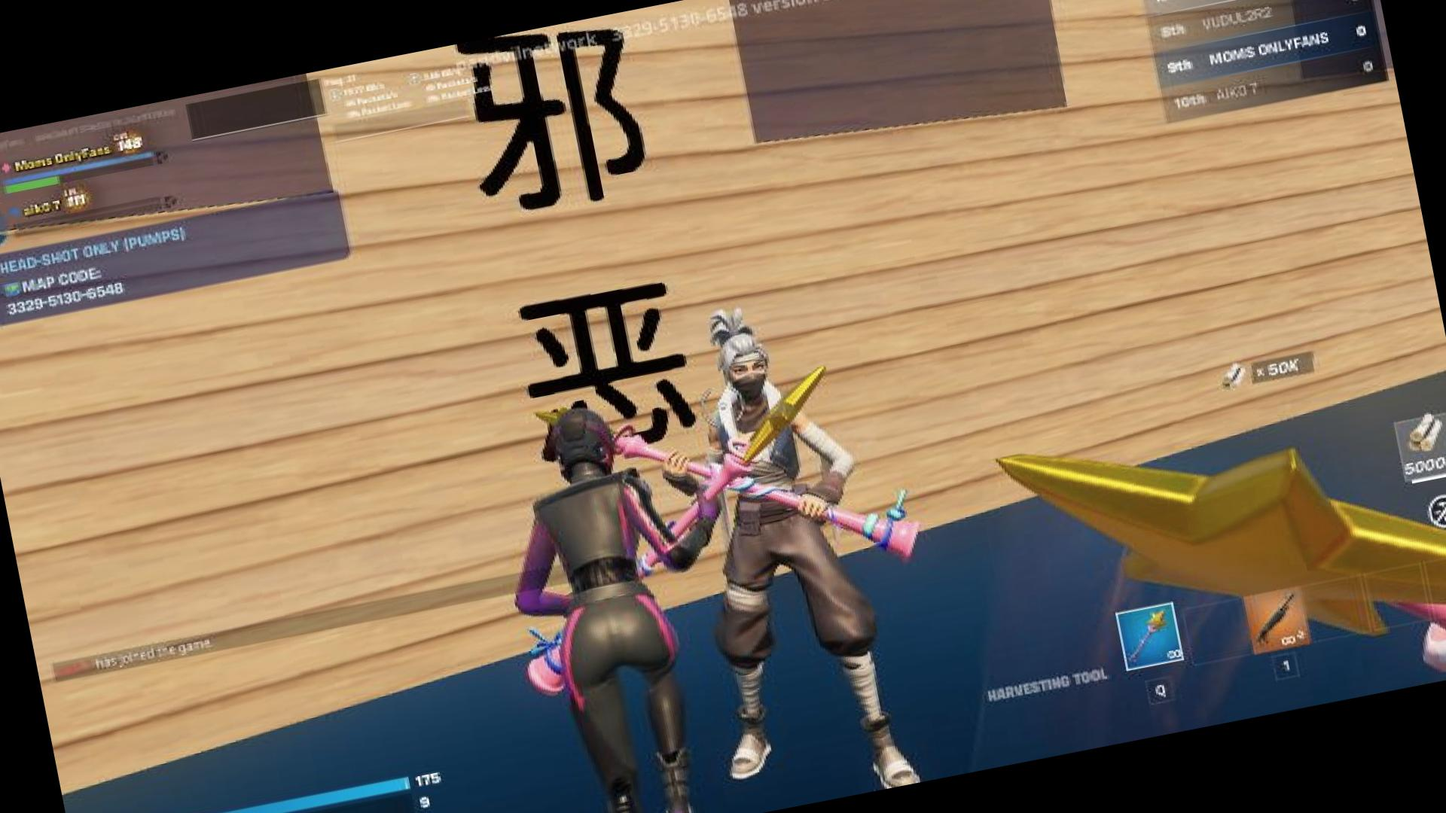player: (627, 277, 946, 813)
